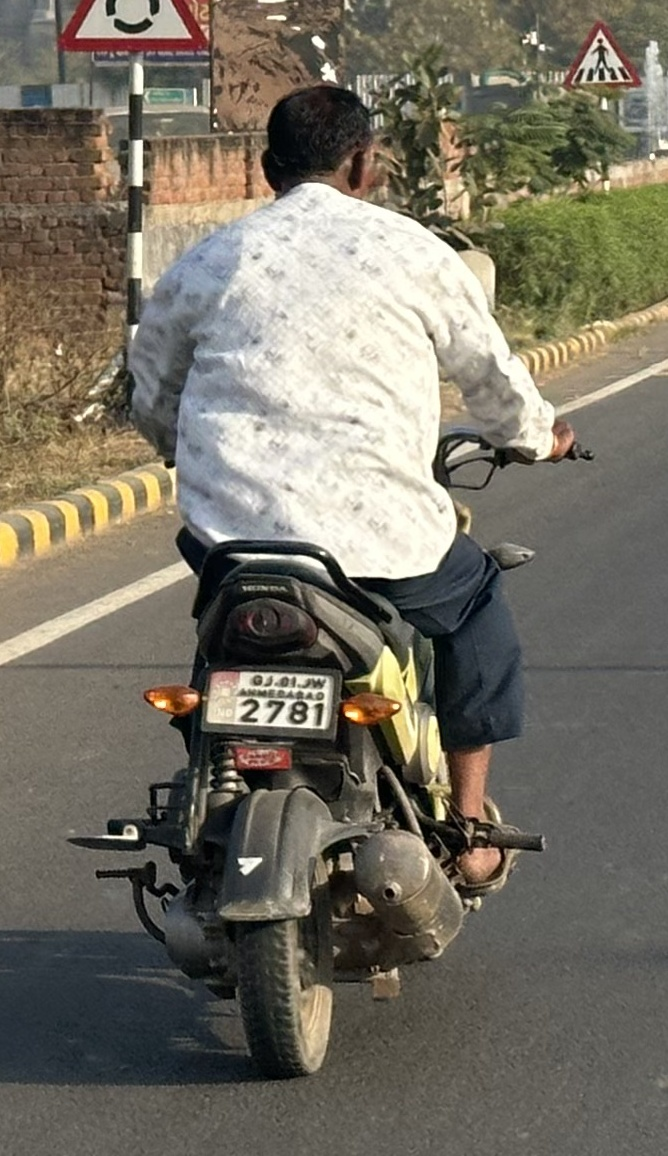BikeWithRider: (64, 81, 601, 1083)
NoHelmet: (251, 85, 377, 209)
